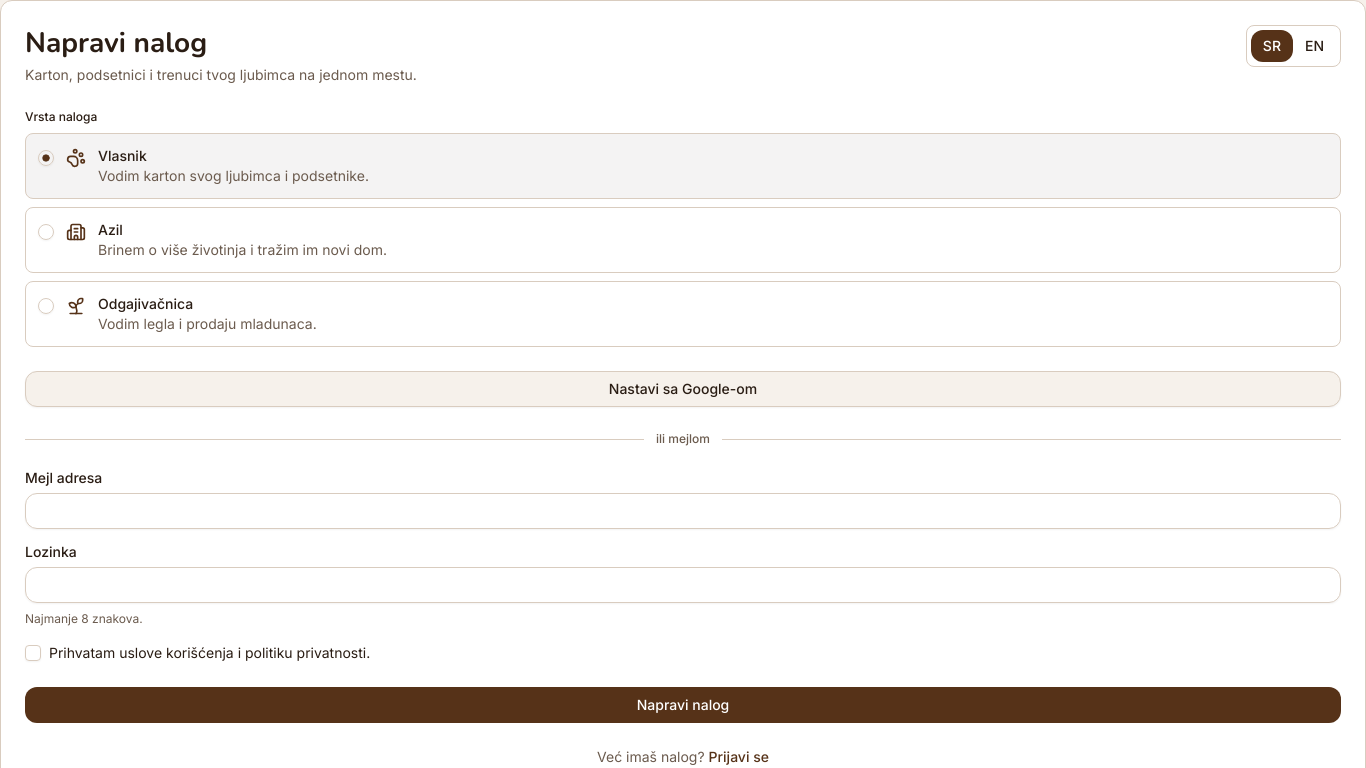
Test: S15 Registracija (FR-33) › an email that already has an account → the taken error inline
Type "ivana.petrovic@gmail.com" into the field labelled "Mejl adresa". click: [683, 511]
box: left=25, top=493, right=1341, bottom=529
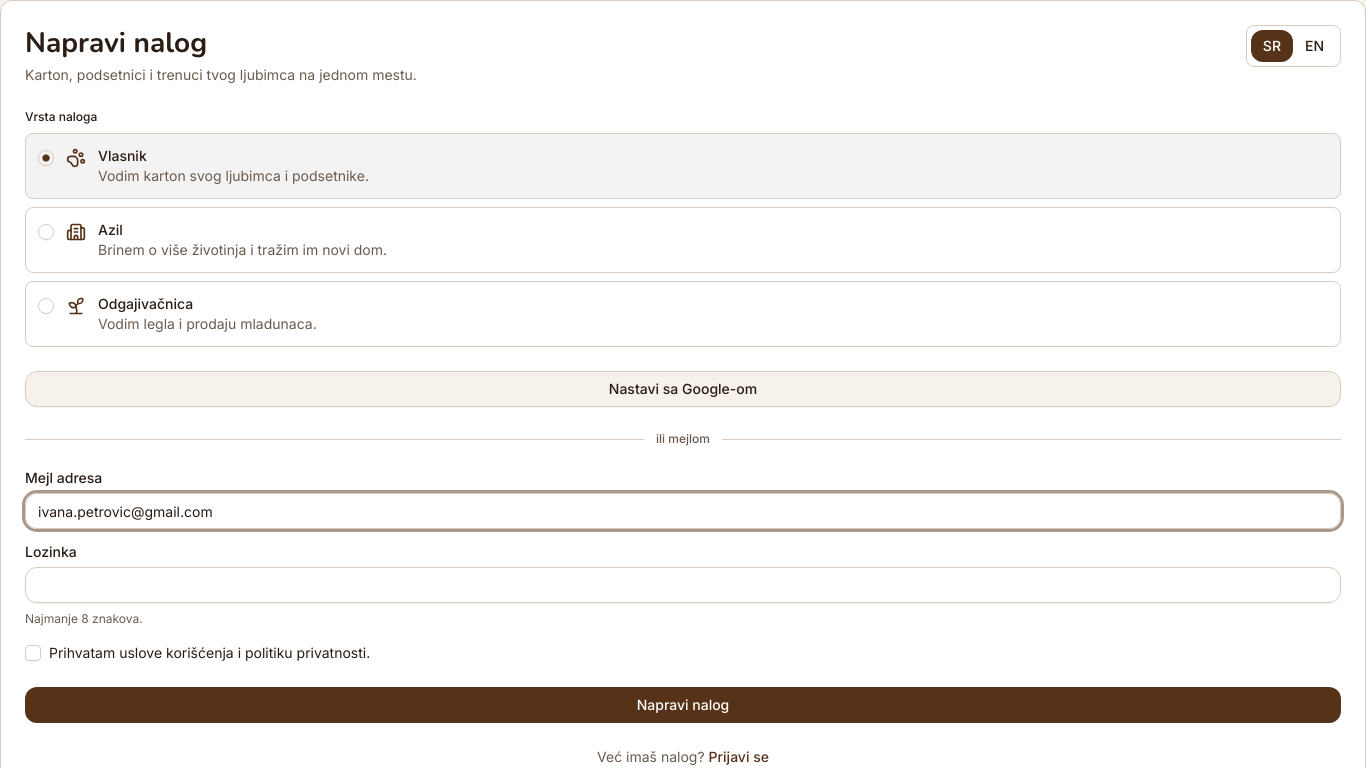
Type "dugalozinka" into the password field labelled "Lozinka". click: [683, 585]
box: left=25, top=567, right=1341, bottom=603
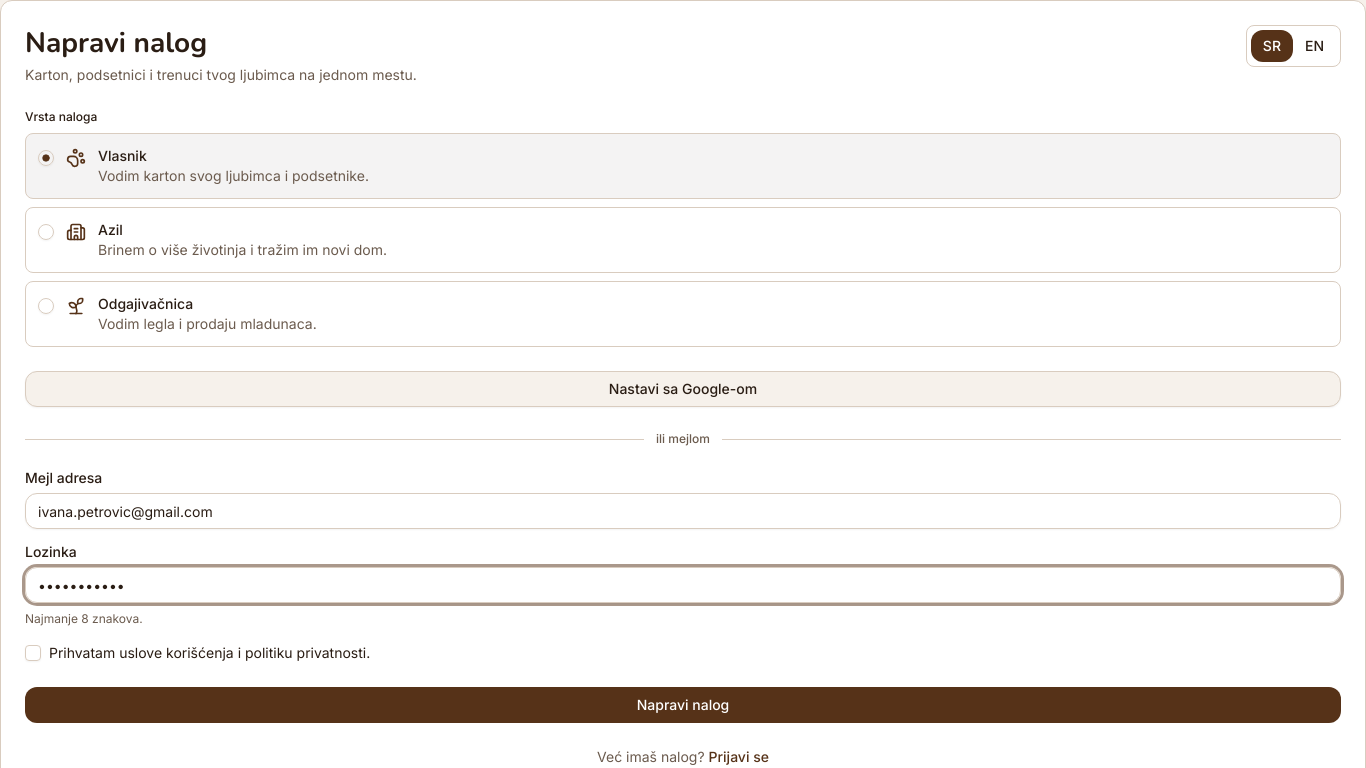
Click the checkbox. click: [33, 653]
box: left=25, top=645, right=41, bottom=661
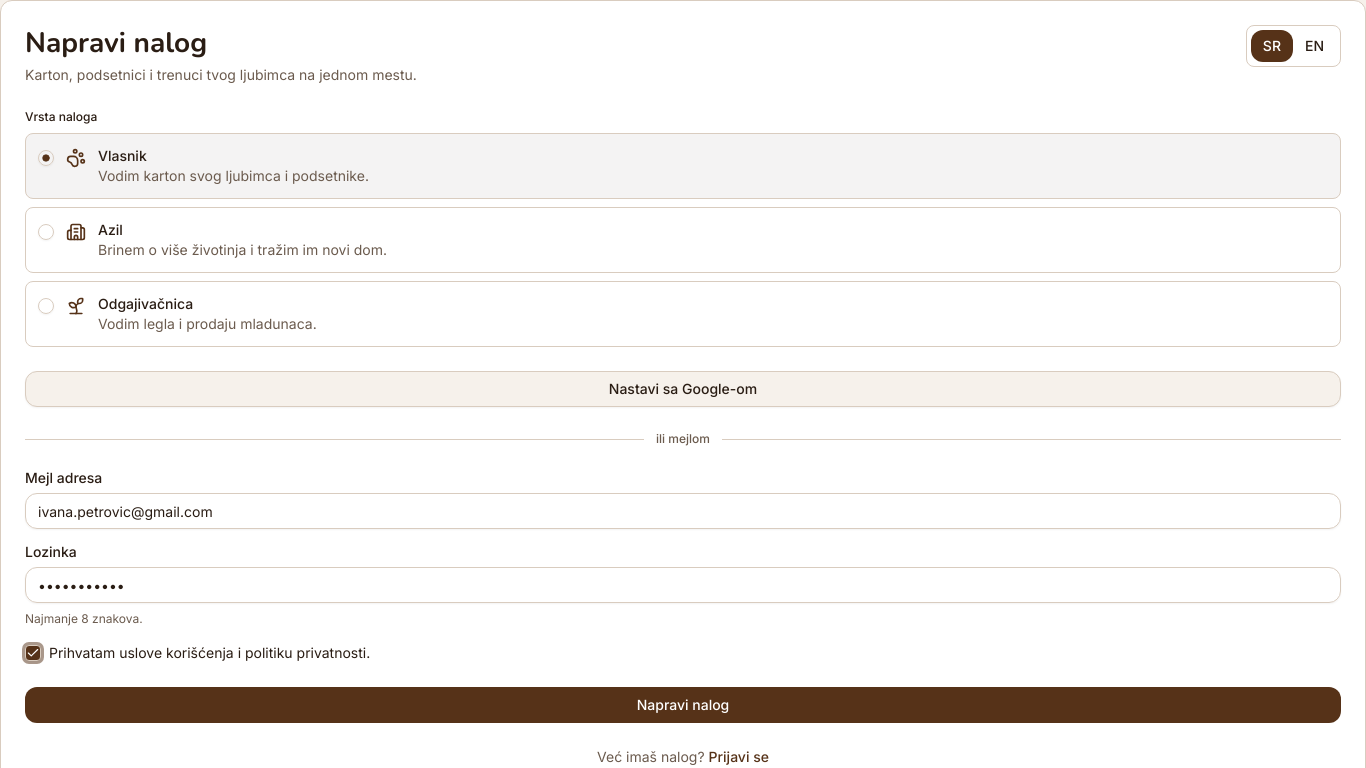
Click the button "Napravi nalog". click: [683, 705]
box: left=25, top=687, right=1341, bottom=723
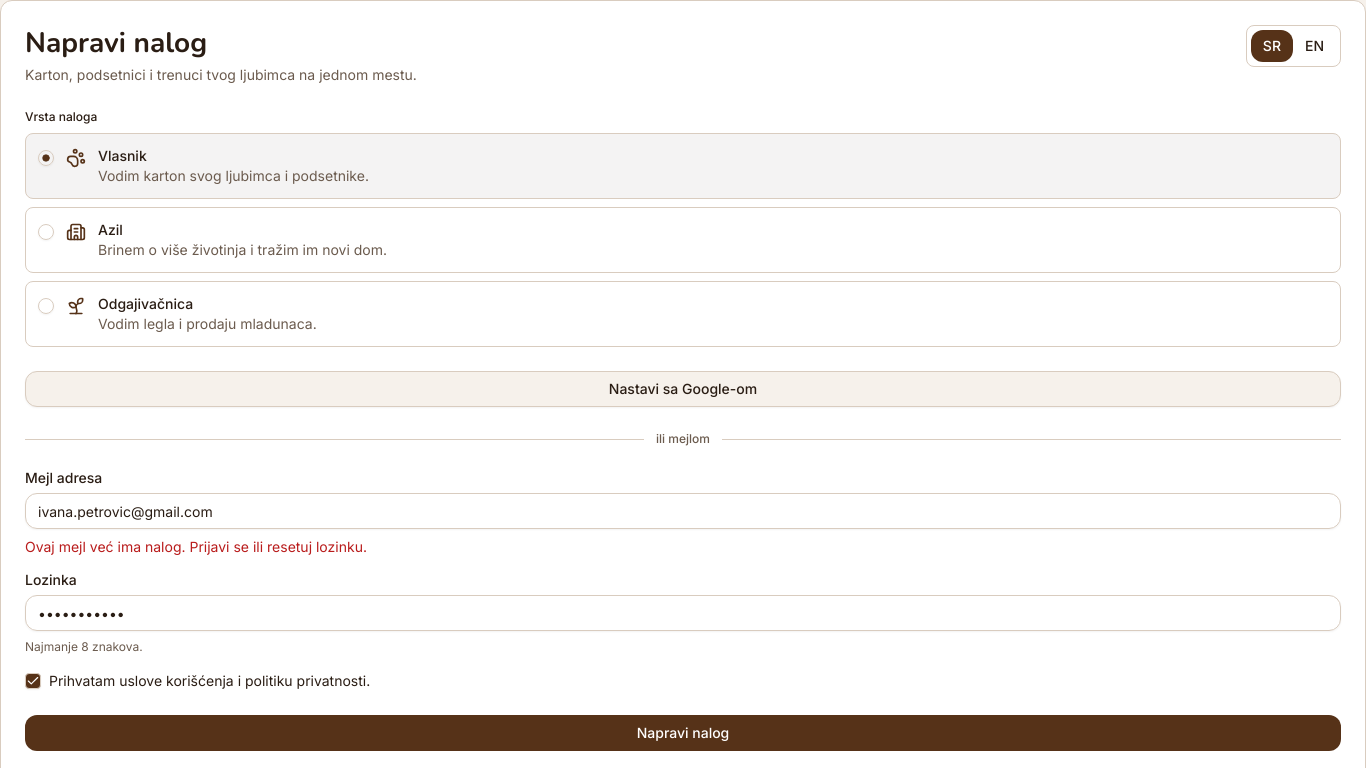
Now the text "Ovaj mejl već ima nalog. Prijavi se ili resetuj lozinku." is shown, box left=25, top=538, right=367, bottom=555
